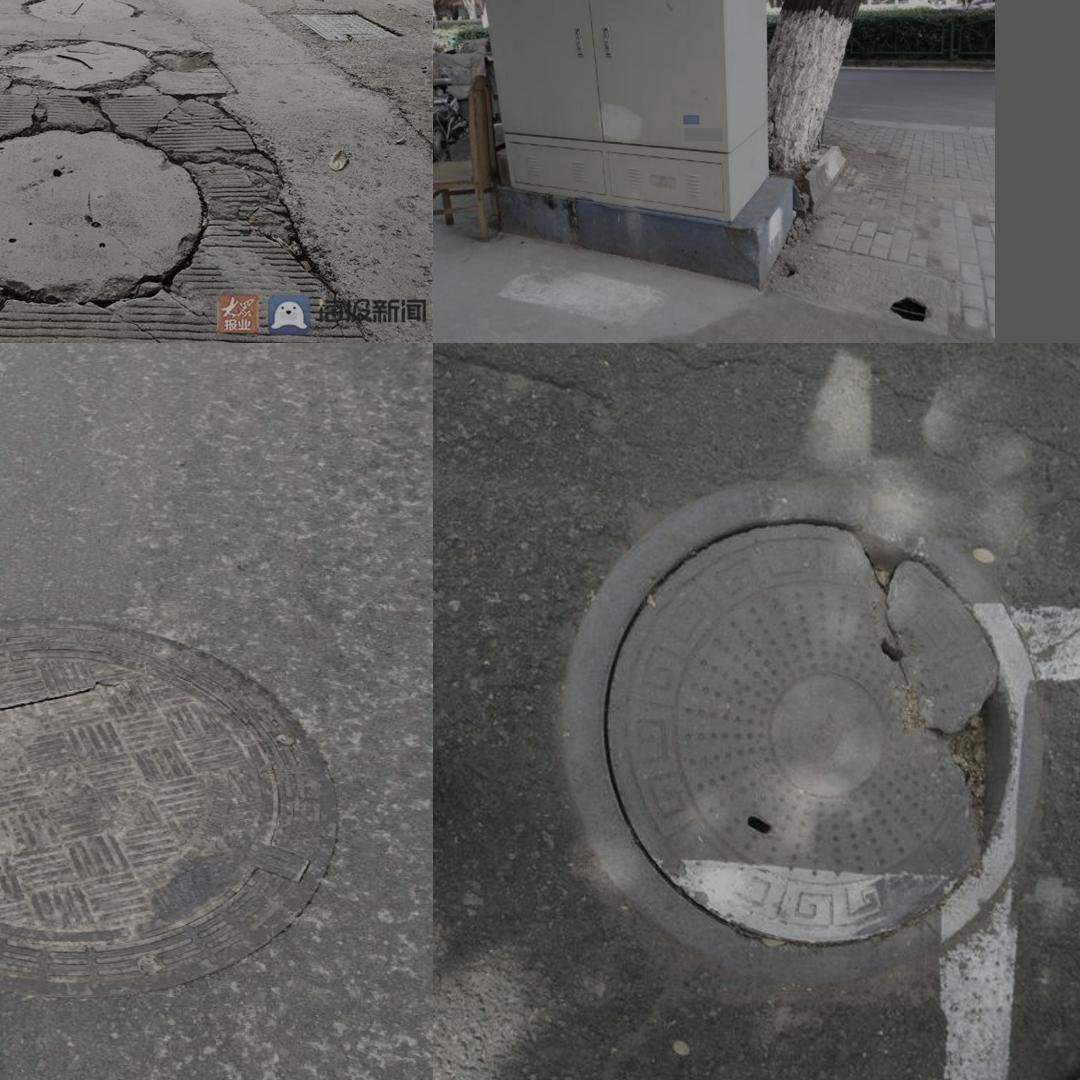broke: (540, 465, 1056, 977), (0, 601, 333, 983), (0, 67, 301, 326), (775, 236, 948, 322)
